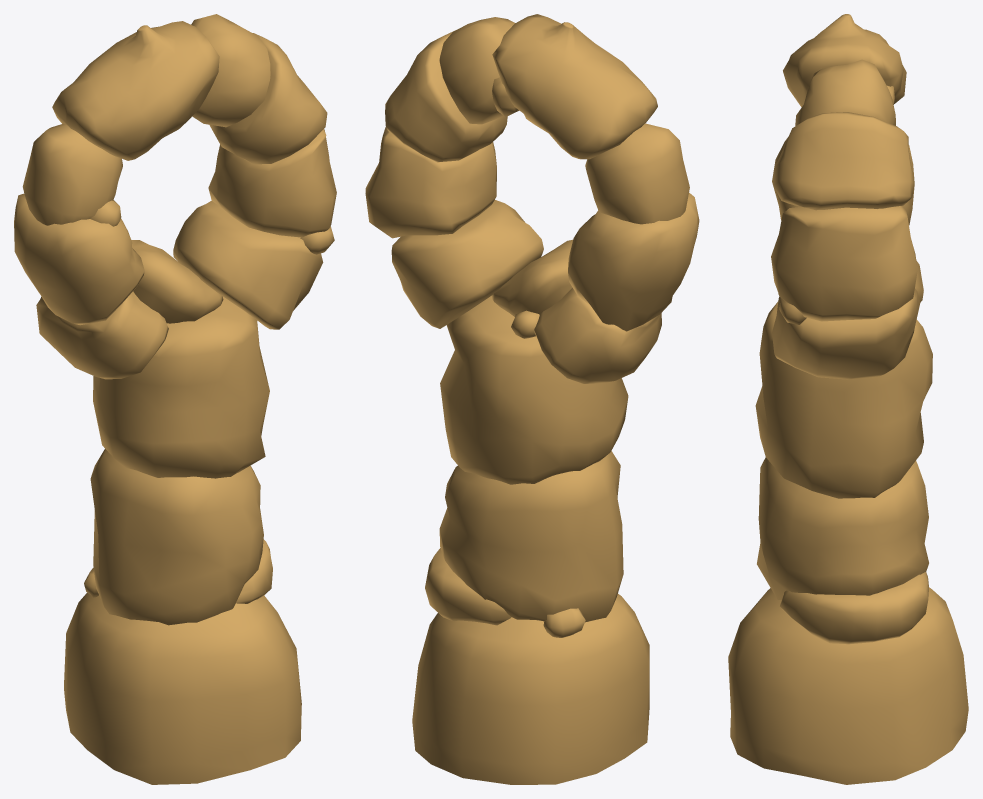
Rendered from Mode_ColonnePassage.fbx.
3 views of the same model, side by side, from view 1: azimuth 30°, elevation 25°; view 2: azimuth 150°, elevation 25°; view 3: azimuth 270°, elevation 25° (orthographic). The views are drawn at different scales.
Parts seen in each view (by area): view 1: colonne_passage; view 2: colonne_passage; view 3: colonne_passage.
Boxes of the visible parts, box(x1,y1,x2,y2) form: colonne_passage: box(14, 14, 336, 784); colonne_passage: box(365, 14, 699, 784); colonne_passage: box(728, 14, 968, 784).
Bounding box in the file's own units: 1275 × 2920 × 901.
